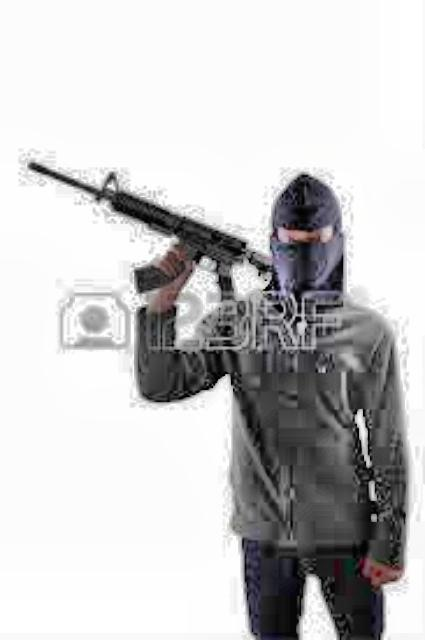pistol: (26, 158, 275, 324)
